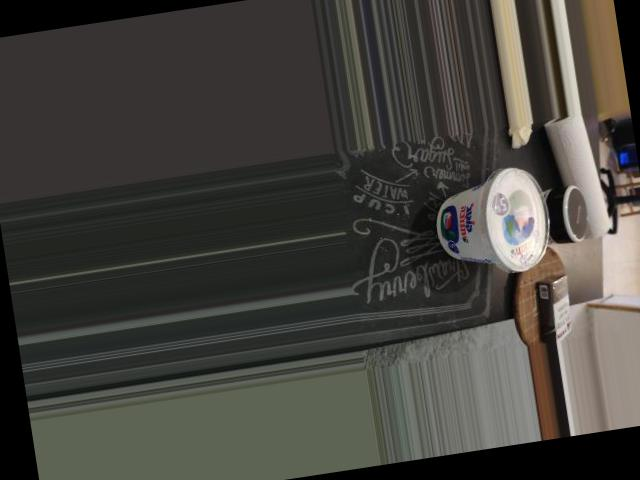cotage: (423, 163, 557, 279)
